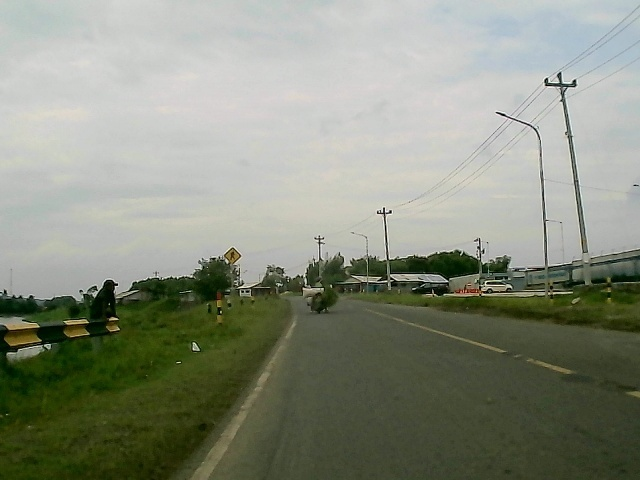Peringatan orang menyeberang: (221, 246, 241, 264)
